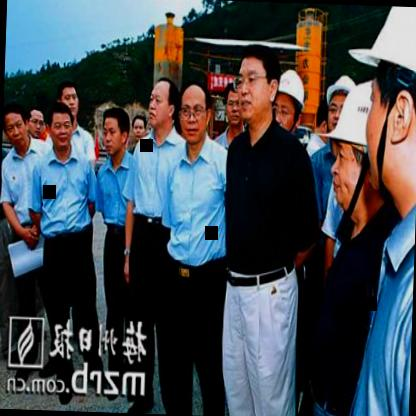head: (236, 42, 280, 122), (176, 77, 212, 145), (146, 75, 180, 134), (100, 106, 130, 161), (46, 96, 76, 150), (54, 75, 82, 124), (2, 102, 30, 150), (224, 75, 246, 131), (26, 101, 47, 142), (130, 110, 146, 146)
helmet: (356, 6, 416, 223), (326, 80, 380, 212), (274, 68, 306, 136), (326, 76, 352, 130)
